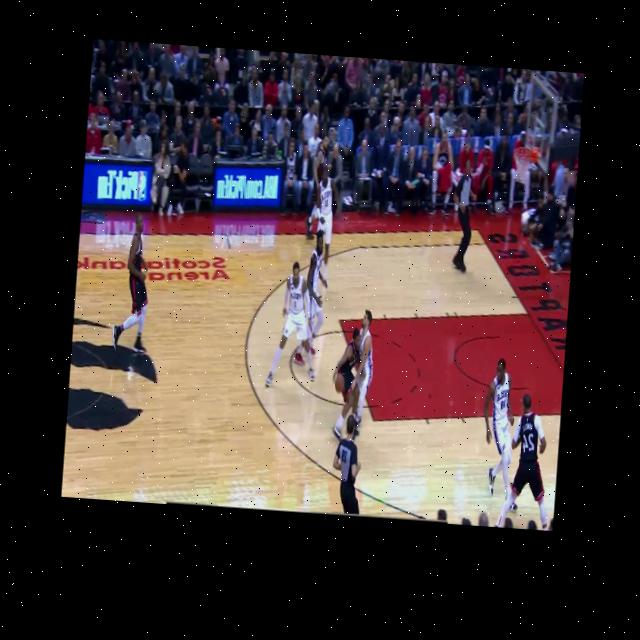Foul: (331, 296, 380, 422)
